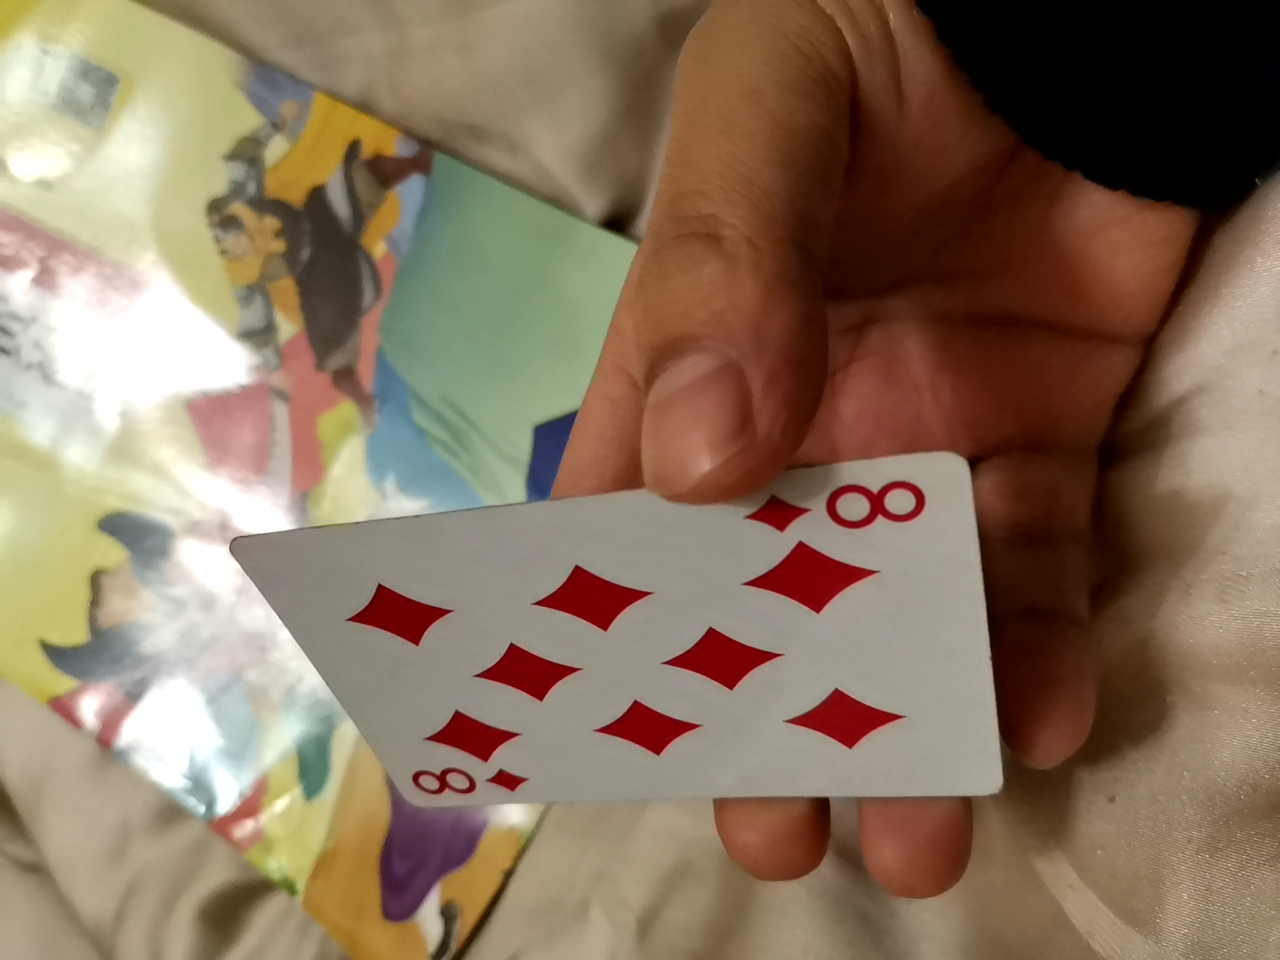fk 8: (364, 483, 1003, 832)
